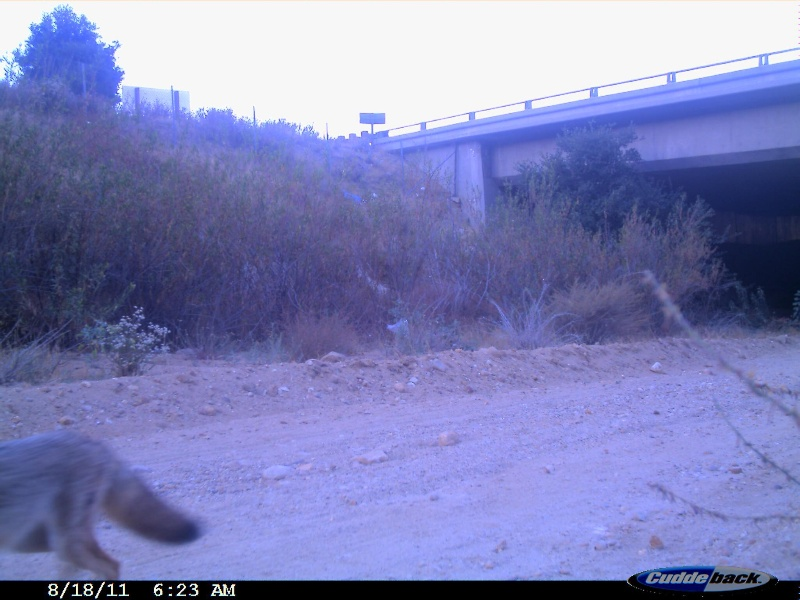coyote: (1, 431, 205, 578)
